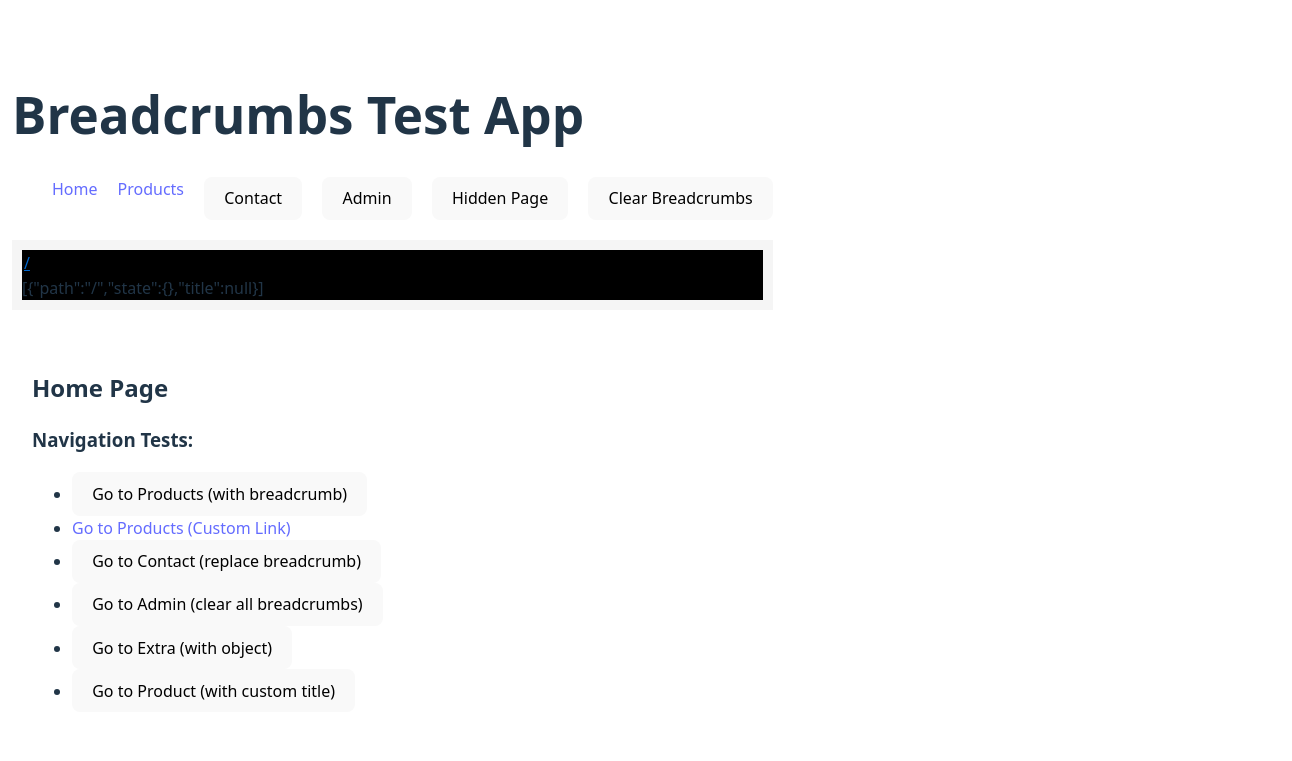
Test: General logic › Click on custom Link adds entry to breadcrumbs stack
The image size is (1292, 761).
Click the link with test id "link-products": (181, 528) top-left (72, 517), bottom-right (290, 539)
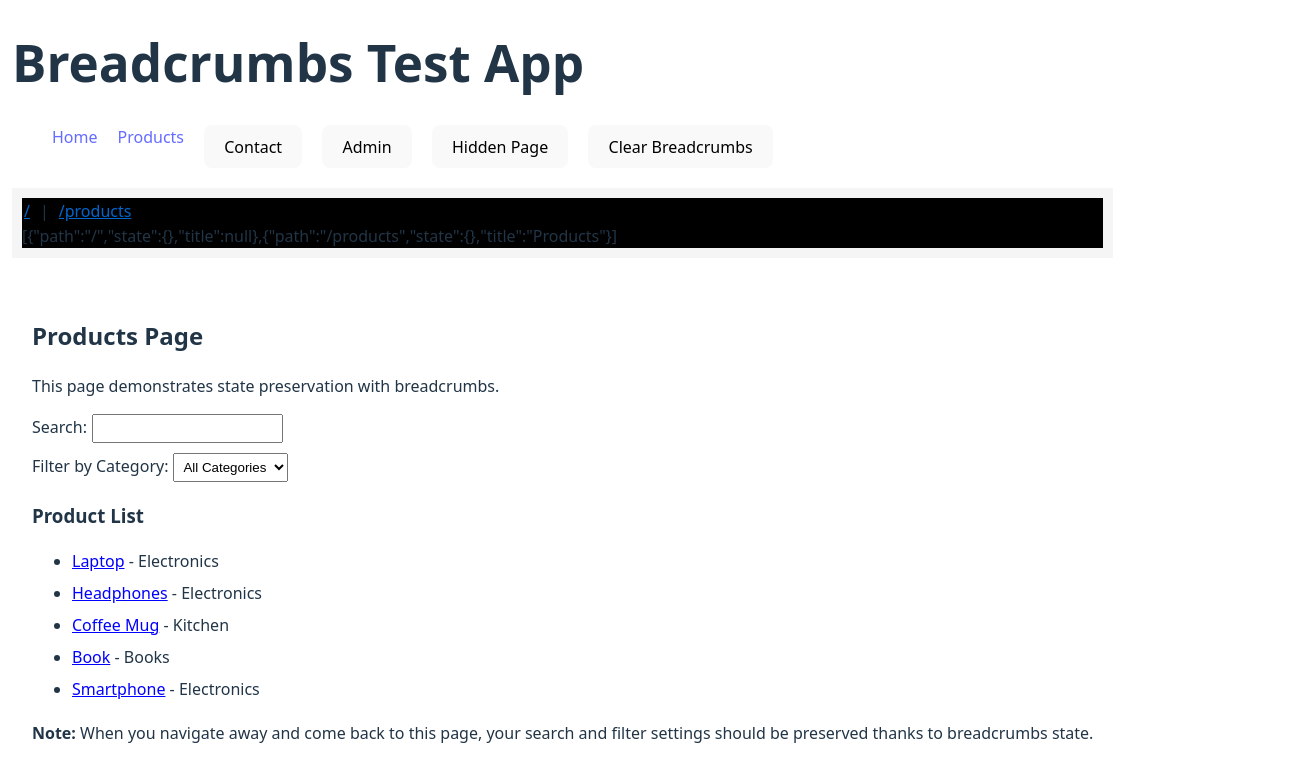
Click the link with test id "link-product1": (98, 561) top-left (72, 550), bottom-right (124, 572)
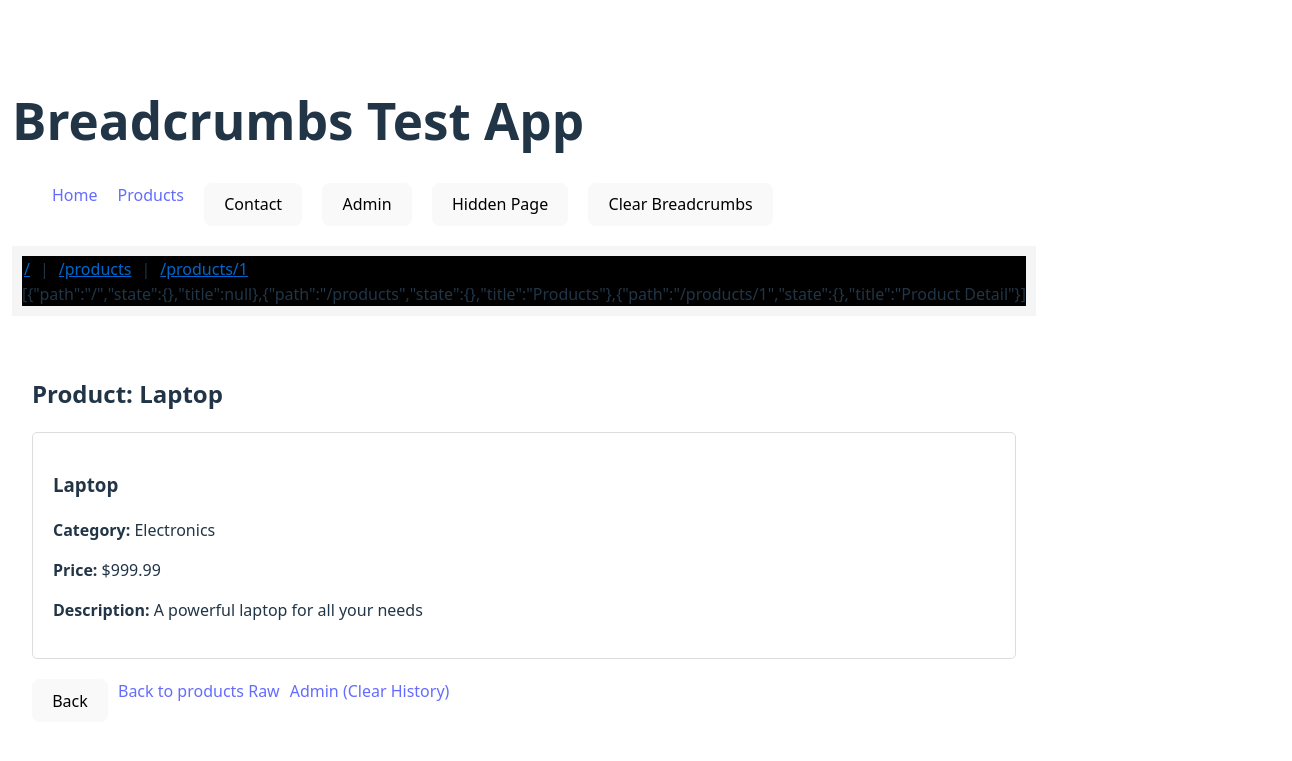
Now the button "/products/1" is shown, box top-left (158, 256), bottom-right (250, 282)
